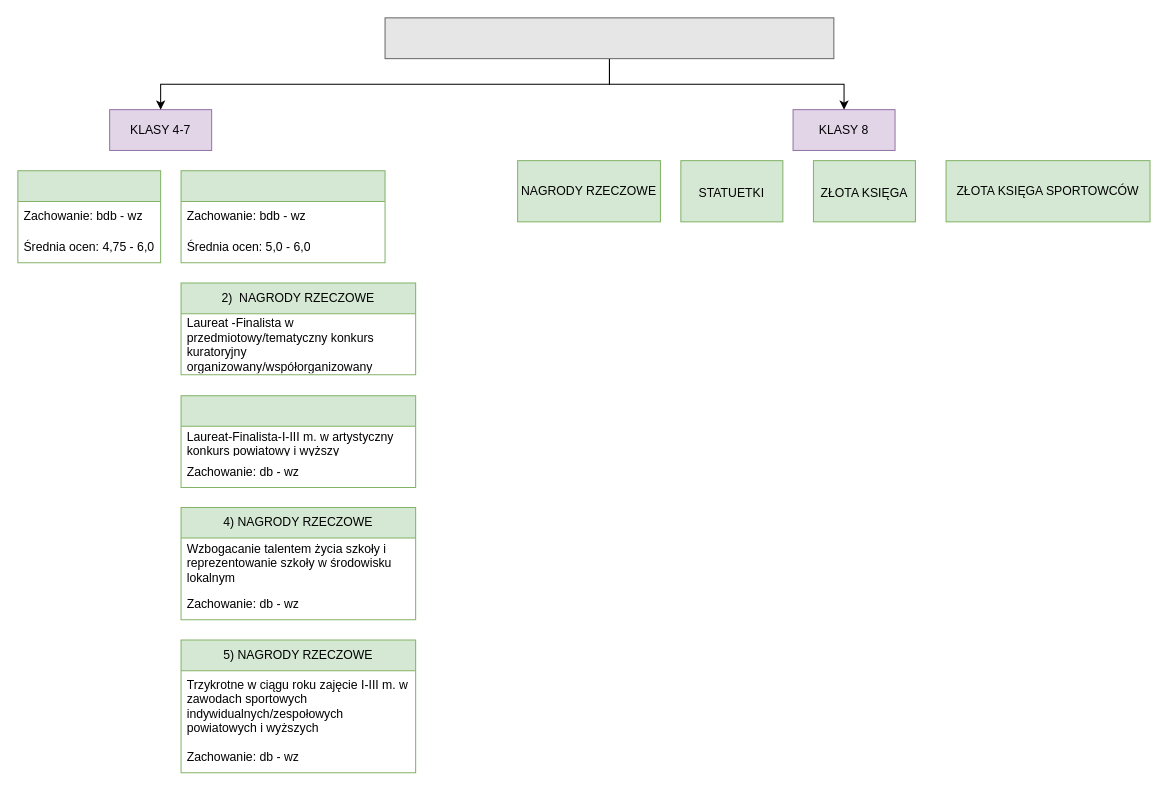
Image size: 1168x791. Some labels were removed from this diagram. Each missing label, with the box of its shape:
1) NAGRODY RZECZOWE: (180, 170, 385, 263)
3) NAGRODY RZECZOWE: (180, 395, 416, 488)
DYPLOM UZNANIA: (17, 170, 161, 263)
WARUNKI PRZYZNAWANIA NAGRÓD KOŃCOWOROCZNYCH: (384, 17, 834, 59)
